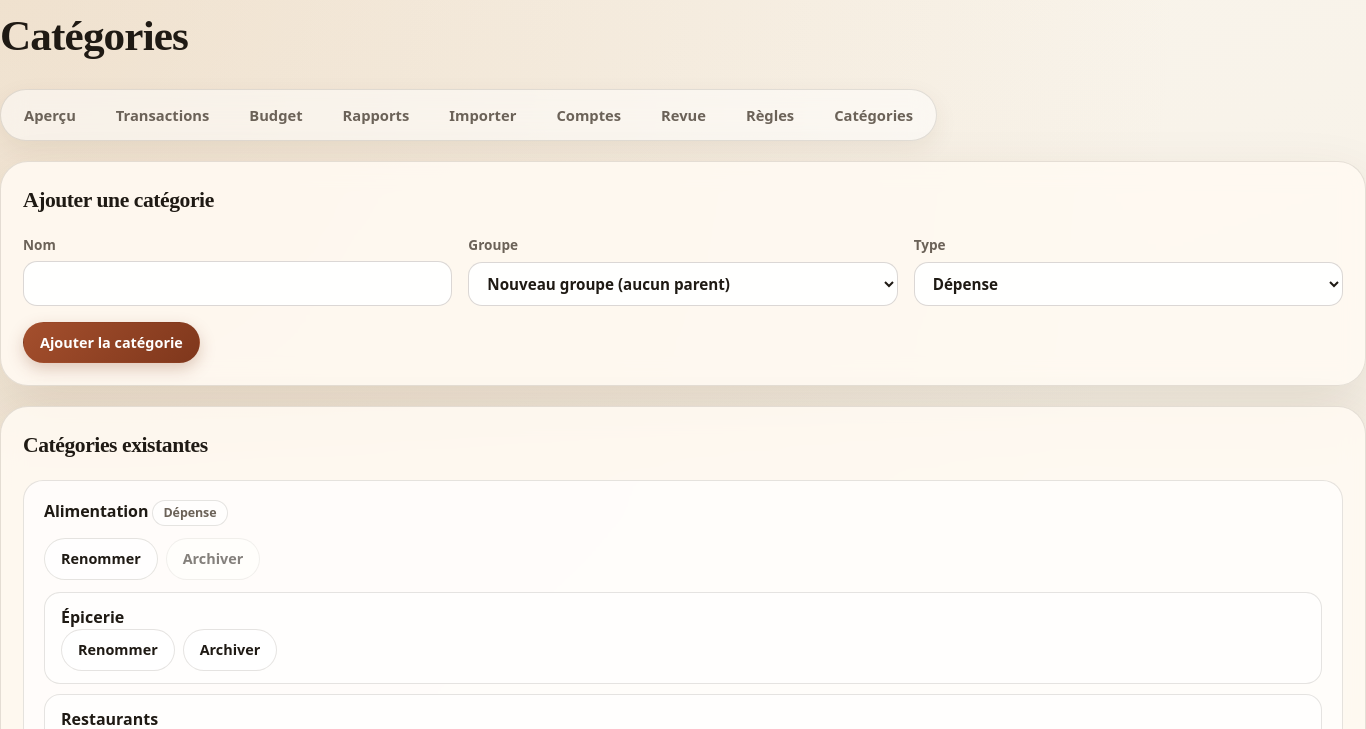
it: FinanceCategoriesPage › never creates a child under a group archived after it was selected
Check: the heading "Alimentation Dépense" is shown, box [44,500,228,526]
Note: Archived from this screen: the stale selection is cleared on reload.
Select "Vide" in the dropdown labelled "Groupe" at (683, 284), box [468,262,898,306]
(page scrolled)
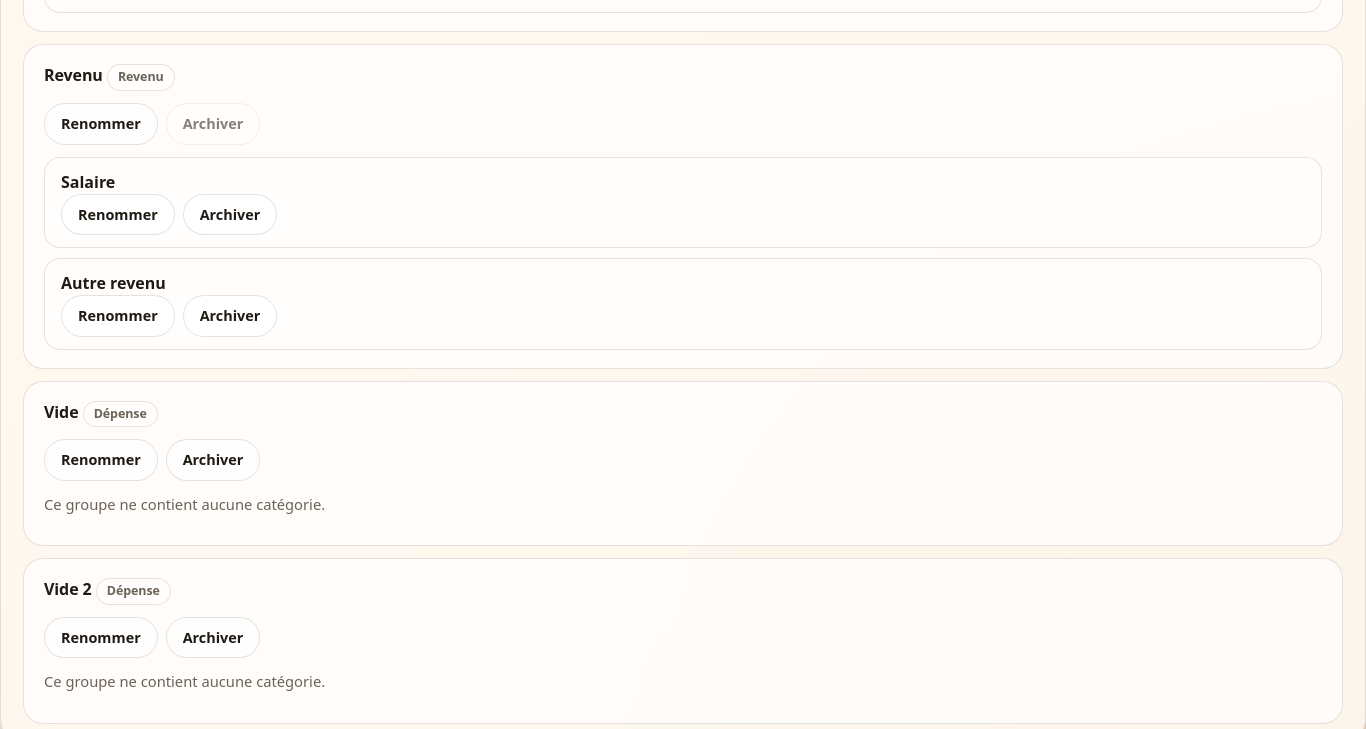
Click the button with aria-label "Archiver Vide" at (213, 460), box [166,440,260,481]
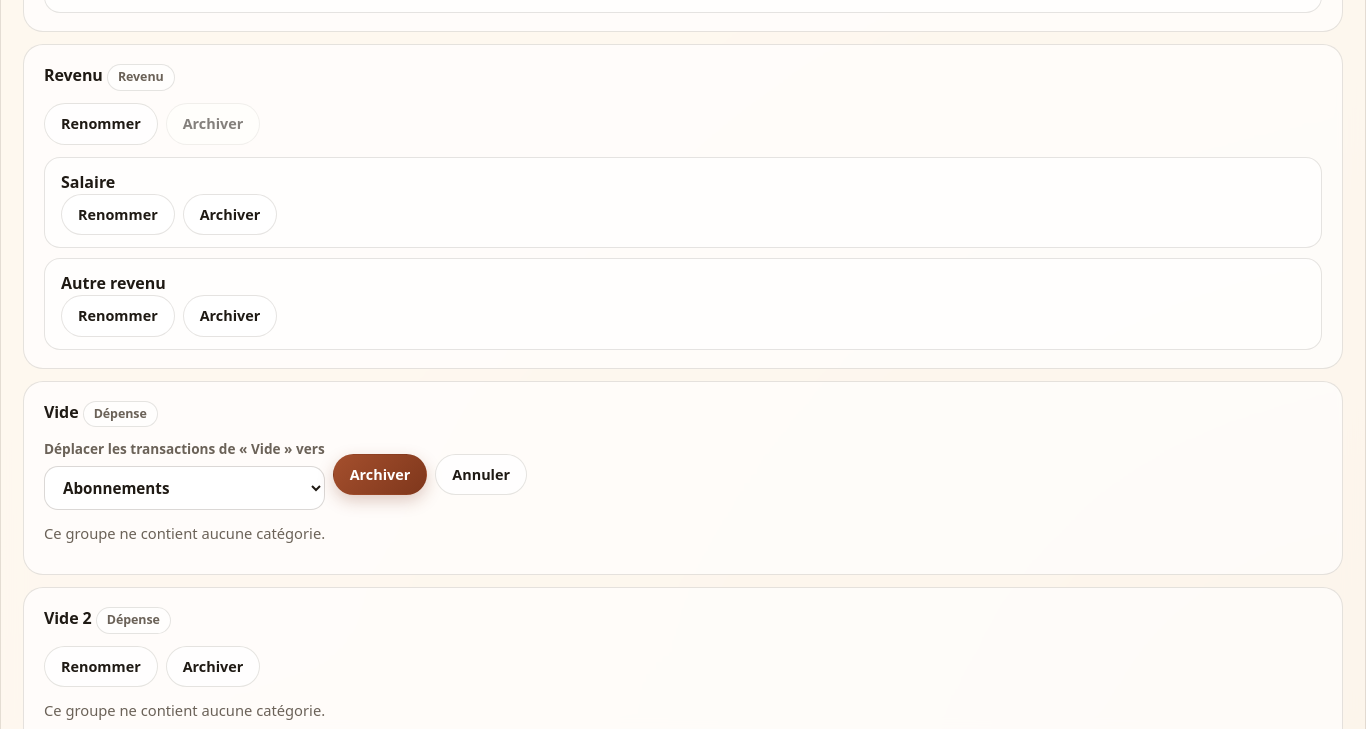
Click the 5th button "Archiver" at (380, 475), box [333,454,427,496]
(page scrolled)
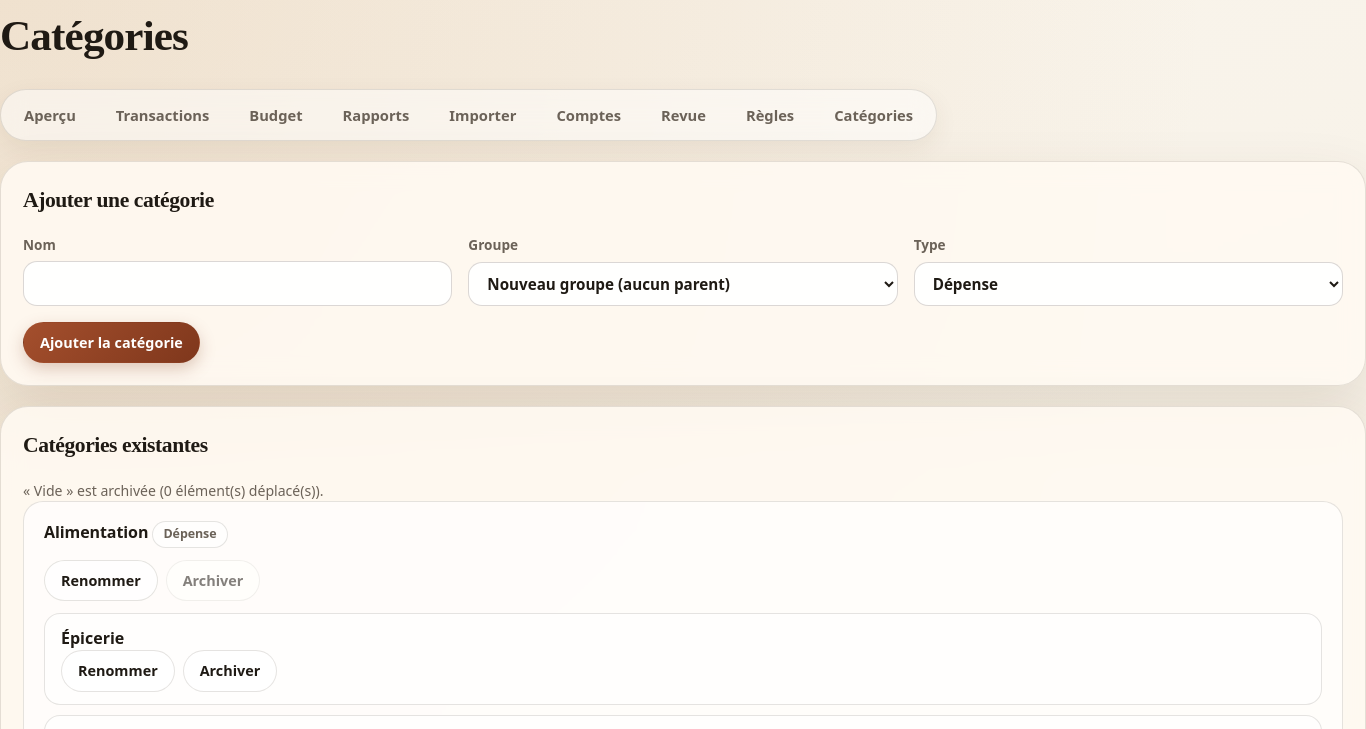
Note: Archived behind the screen's back: the save re-checks the parent.
Select "Vide 2" in the dropdown labelled "Groupe" at (683, 284), box [468,262,898,306]
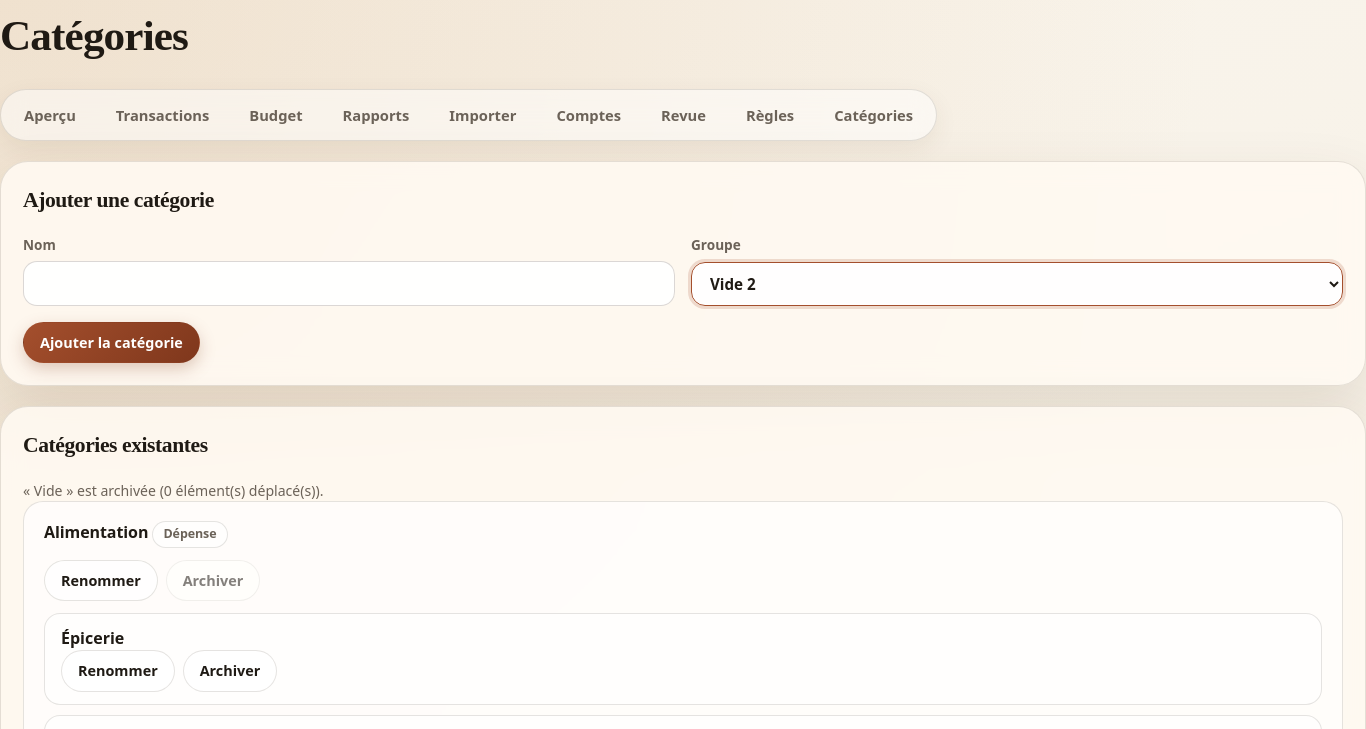
Type "Orphelin" into the field labelled "Nom" at (349, 283), box [23,261,675,306]
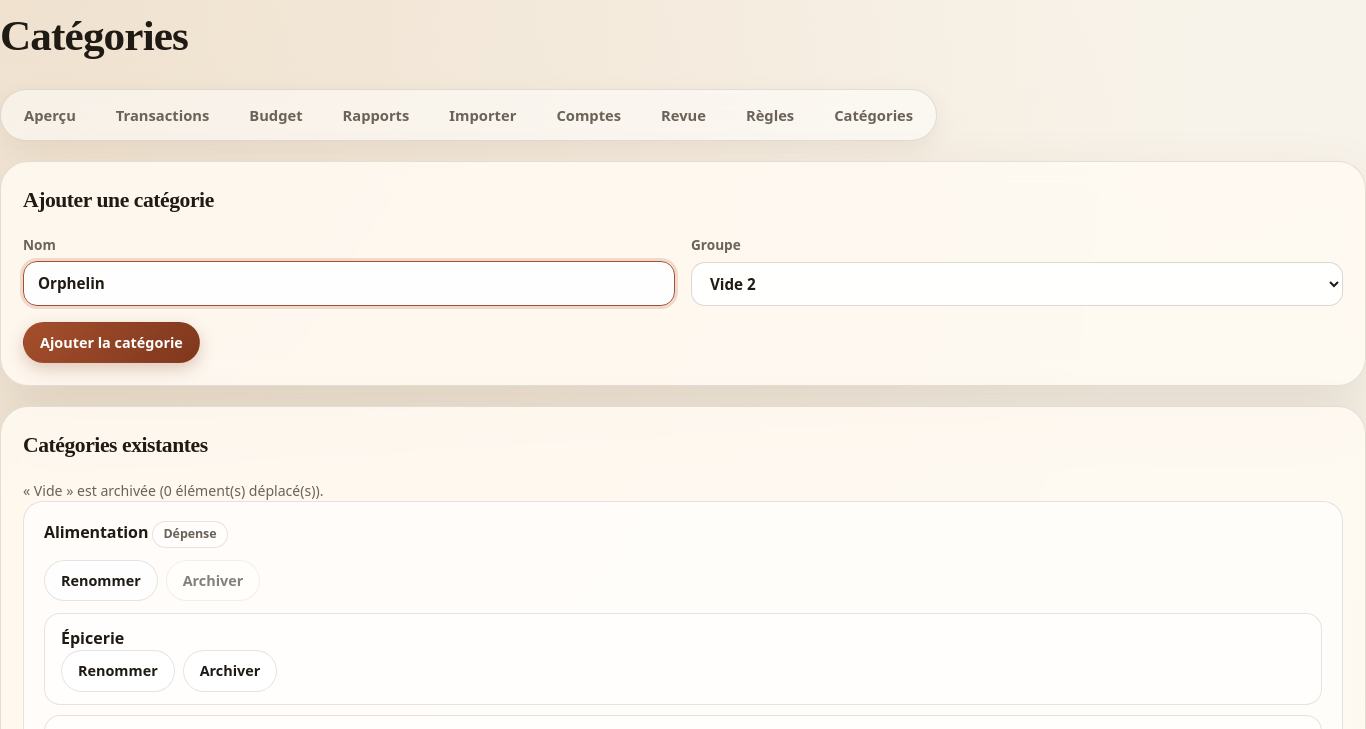
Click the button "Ajouter la catégorie" at (111, 342), box [23,322,200,363]
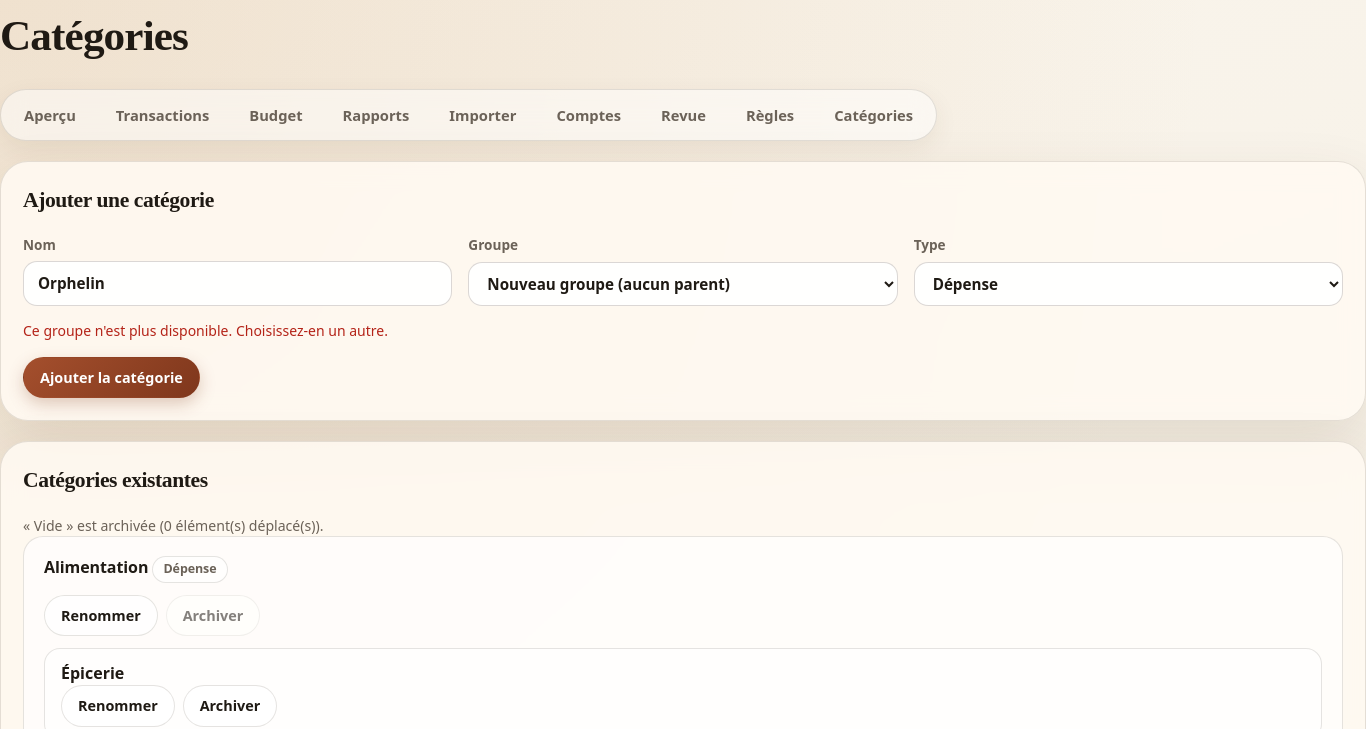
Check: the text "Ce groupe n'est plus disponible. Choisissez-en un autre." is shown, box [23,321,388,340]
